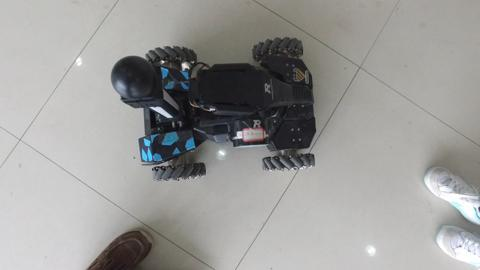chariot: (125, 40, 307, 190)
